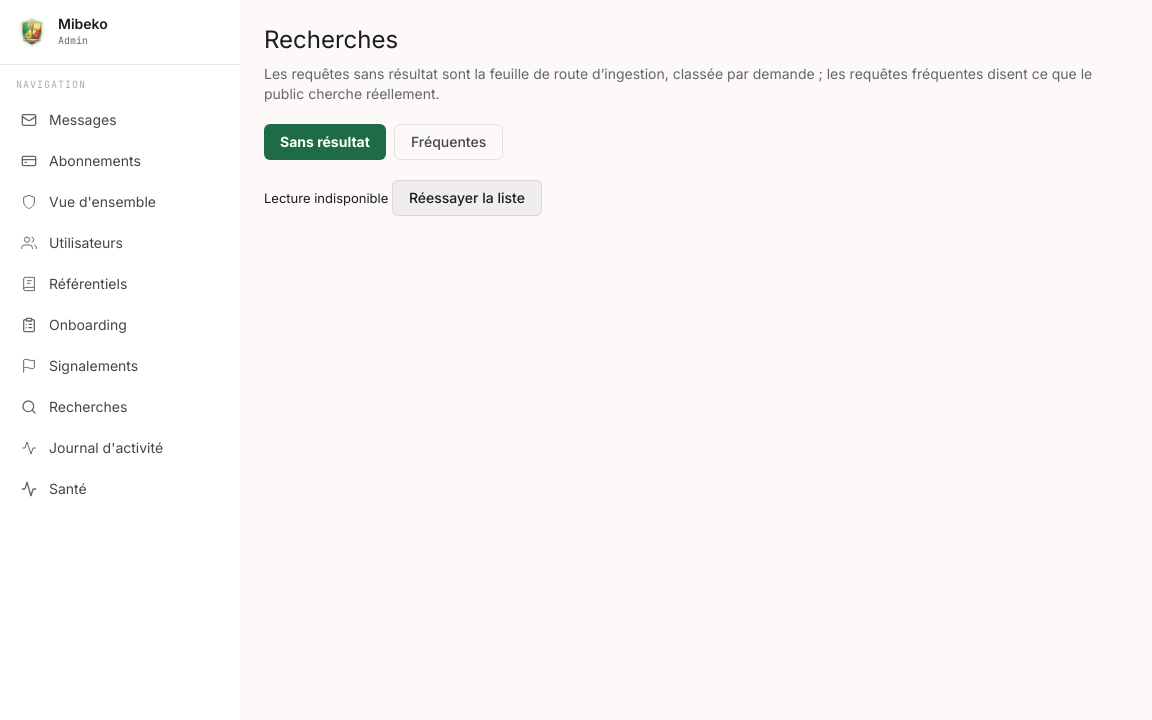
Scenario: signale un échec de lecture et permet de réessayer
Check: the text "Lecture indisponible" is shown, box [264,190,388,206]
Click the button "Réessayer la liste" at coordinates (467, 198), box [392,180,542,216]
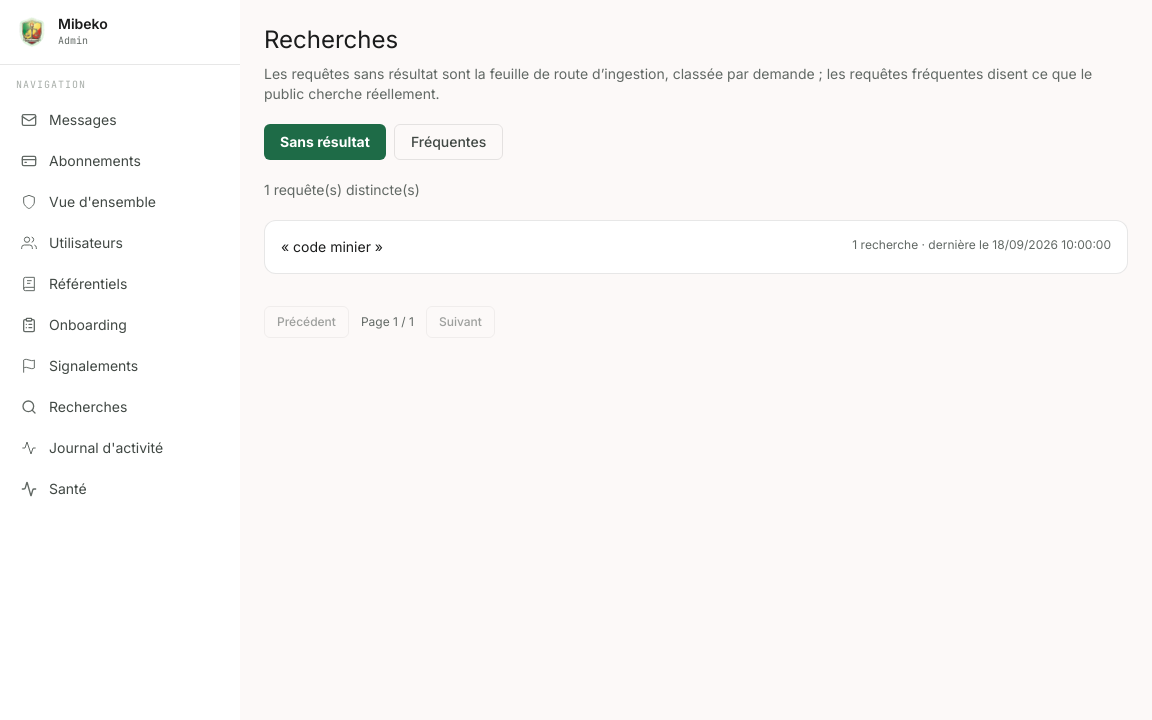
Check: the text "« code minier »" is shown, box [281,237,383,257]
